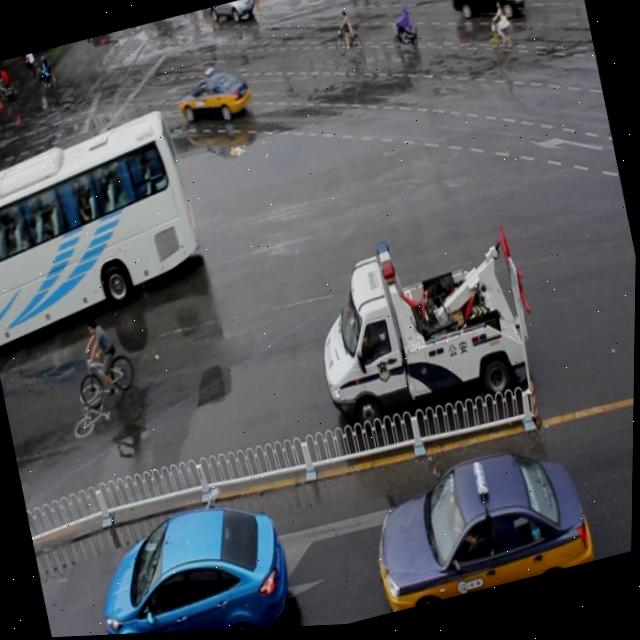bus: (302, 211, 546, 444)
car: (365, 439, 599, 618), (90, 489, 303, 637), (173, 64, 253, 134), (444, 0, 527, 36), (206, 0, 256, 32)
van: (0, 108, 213, 354)
